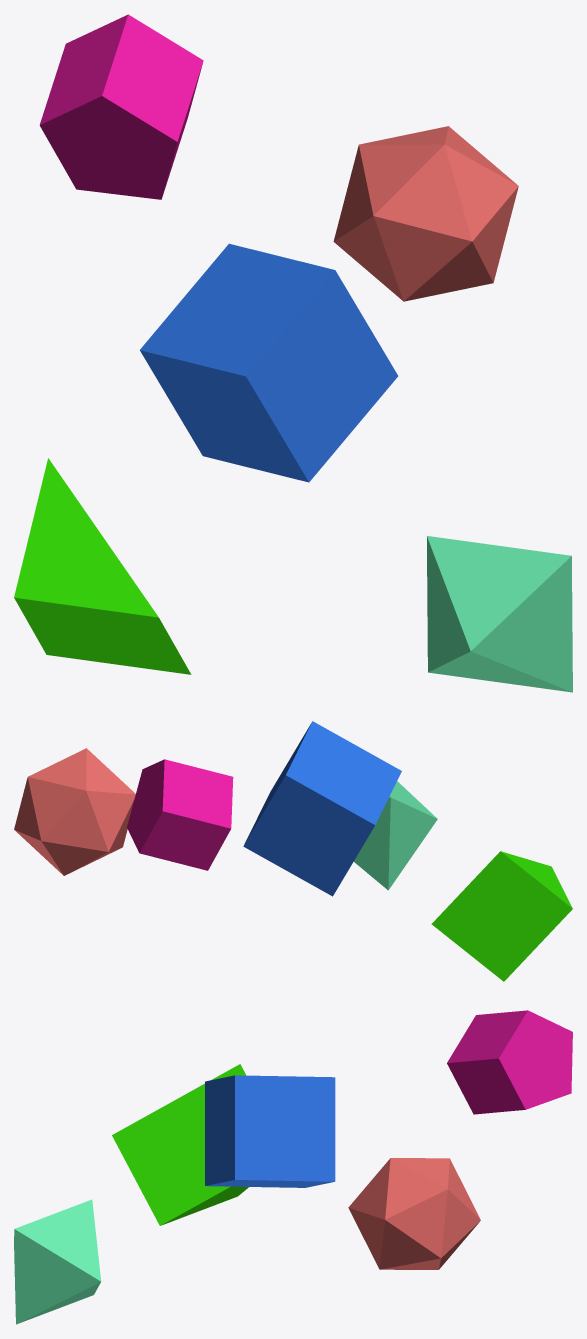
Rendered from cubo.gltf.
3 views of the same model, one above another, from view 1: azimuth 30°, elevation 25°; view 2: azimuth 150°, elevation 25°; view 3: azimuth 270°, elevation 25° (orthographic). The views are drawn at different scales.
Parts seen in each view (by area): view 1: cubo, icoEsfera, rombo, prisma, trianguloRecto; view 2: cubo, trianguloRecto, icoEsfera, rombo, prisma; view 3: cubo, icoEsfera, rombo, trianguloRecto, prisma.
Boxes of the visible parts, x1=… form: cubo: x1=140, y1=243, x2=398, y2=482; icoEsfera: x1=333, y1=126, x2=518, y2=301; rombo: x1=39, y1=14, x2=203, y2=199; prisma: x1=427, y1=536, x2=572, y2=692; trianguloRecto: x1=14, y1=458, x2=191, y2=674; cubo: x1=243, y1=721, x2=401, y2=896; trianguloRecto: x1=431, y1=851, x2=572, y2=981; icoEsfera: x1=14, y1=748, x2=135, y2=875; rombo: x1=127, y1=759, x2=233, y2=870; prisma: x1=354, y1=781, x2=437, y2=890; cubo: x1=205, y1=1075, x2=335, y2=1187; icoEsfera: x1=348, y1=1158, x2=480, y2=1269; rombo: x1=447, y1=1010, x2=572, y2=1114; trianguloRecto: x1=112, y1=1064, x2=248, y2=1225; prisma: x1=14, y1=1199, x2=101, y2=1324.
Size of the model in its own units: 9.81 by 6.11 by 10.67.
